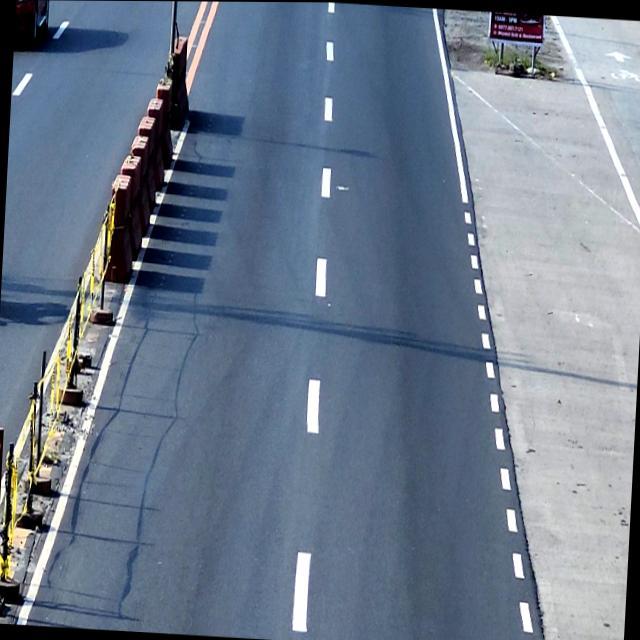Car: (14, 0, 50, 46)
